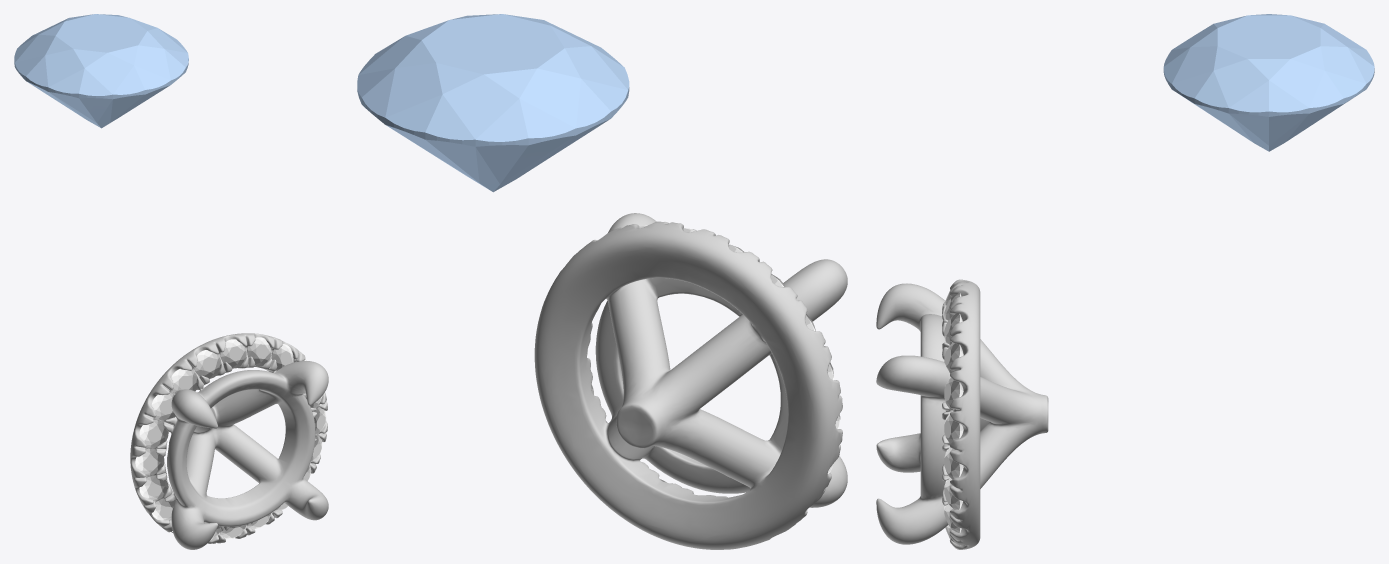
The model's file is Round with Halo_3.00ct.glb.
3 views of the same model, side by side, from view 1: azimuth 30°, elevation 25°; view 2: azimuth 150°, elevation 25°; view 3: azimuth 270°, elevation 25° (orthographic). The views are drawn at different scales.
Visible parts, largest first — view 1: _0.006, Diamond_Round, Diamond_Round_11.001, Diamond_Round_8.001, Diamond_Round_12.001, Diamond_Round_7.001, Diamond_Round_13.001, Diamond_Round_9.001, Diamond_Round_6.001, Diamond_Round_10.001, Diamond_Round_5.001; view 2: _0.006, Diamond_Round; view 3: _0.006, Diamond_Round.
Boxes of the visible parts, x1,y1,x2,y2 form: _0.006: [130, 333, 328, 549]; Diamond_Round: [14, 14, 188, 128]; Diamond_Round_11.001: [139, 419, 168, 447]; Diamond_Round_8.001: [194, 350, 221, 378]; Diamond_Round_12.001: [135, 448, 164, 475]; Diamond_Round_7.001: [220, 339, 246, 368]; Diamond_Round_13.001: [139, 475, 168, 500]; Diamond_Round_9.001: [171, 369, 197, 393]; Diamond_Round_6.001: [247, 337, 271, 366]; Diamond_Round_10.001: [151, 392, 175, 420]; Diamond_Round_5.001: [271, 344, 293, 370]; _0.006: [534, 213, 847, 549]; Diamond_Round: [357, 14, 629, 192]; _0.006: [876, 279, 1048, 549]; Diamond_Round: [1163, 14, 1374, 151].
Bounding box in the file's own units: 12.09 × 24.68 × 22.32.
